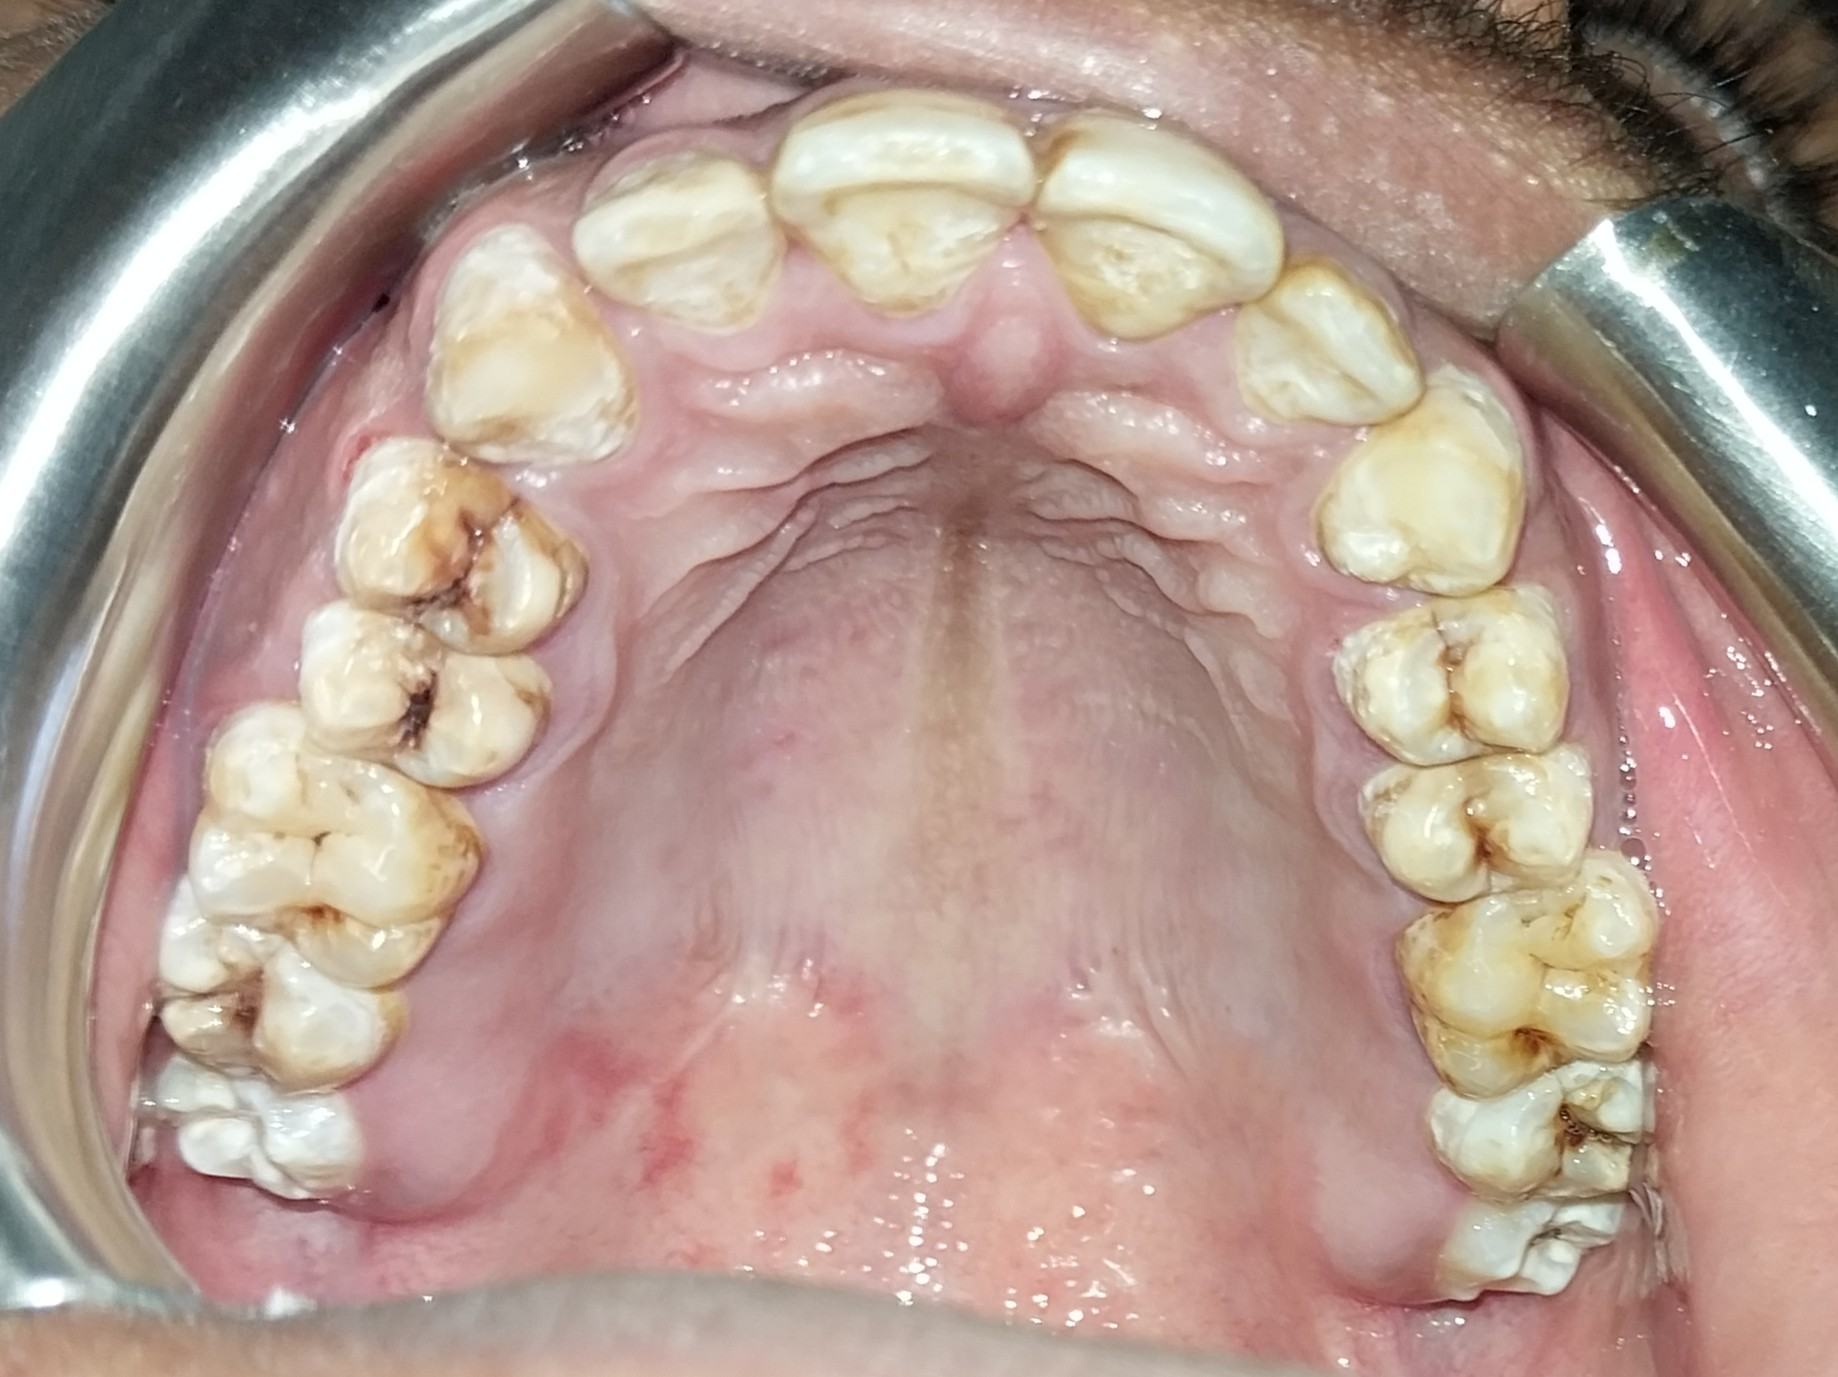D: (183, 702, 490, 991), (1400, 849, 1664, 1101), (331, 432, 592, 660), (158, 888, 398, 1096), (297, 599, 556, 788), (1333, 591, 1581, 763), (1356, 749, 1595, 907), (1417, 1065, 1659, 1202), (1456, 1199, 1629, 1302)
